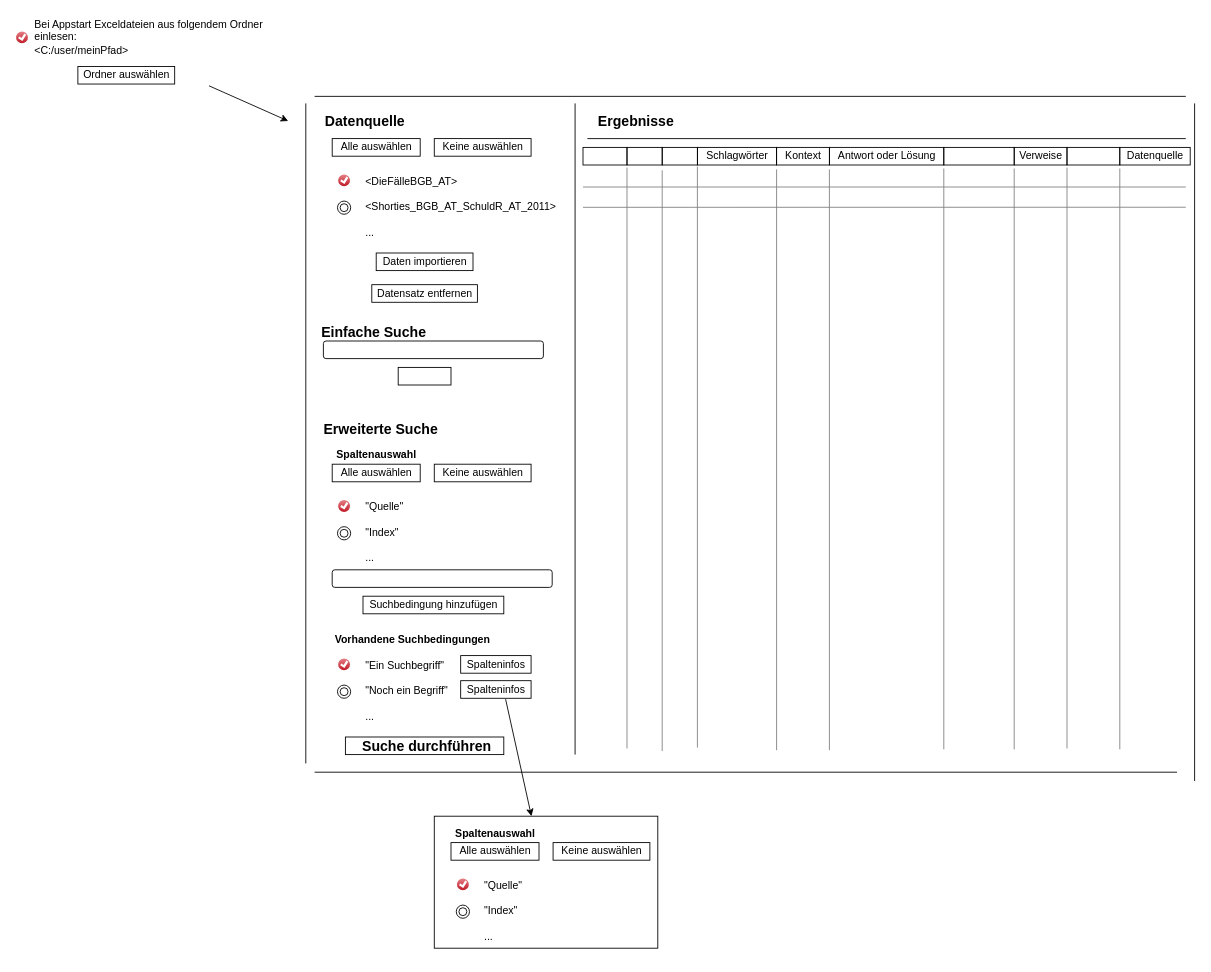
Some shapes in this 1211 by 972 pixel diagram are drawn without their labels. Each missing label, with the centre of its shape:
"Anmerkung" goes at (x=978, y=156).
"Index" goes at (x=644, y=156).
"Qualität" goes at (x=1093, y=156).
"Quelle" goes at (x=604, y=156).
"Seite" goes at (x=679, y=156).
"Suchen" goes at (x=424, y=376).
